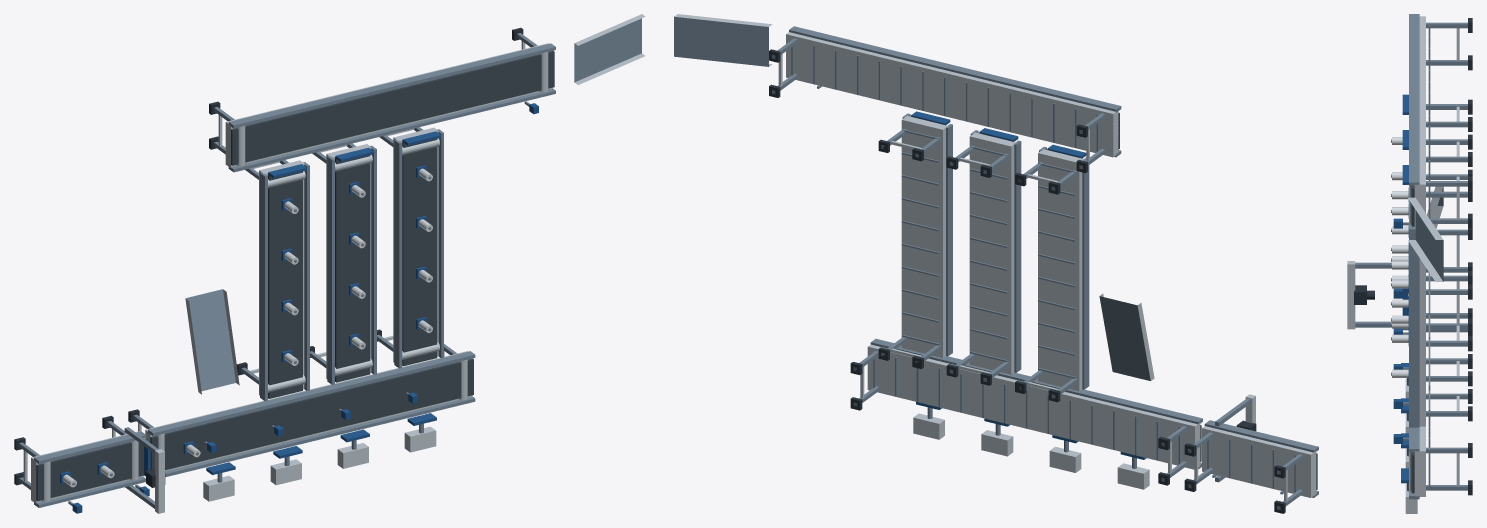
The model's file is line-cad-v0.10.obj.
3 renders of one model, left to right at view 1: azimuth 30°, elevation 25°; view 2: azimuth 150°, elevation 25°; view 3: azimuth 270°, elevation 25°, orthographic. The views are drawn at different scales.
Size of the model in its own units: 11.52 by 6.56 by 1.89.
